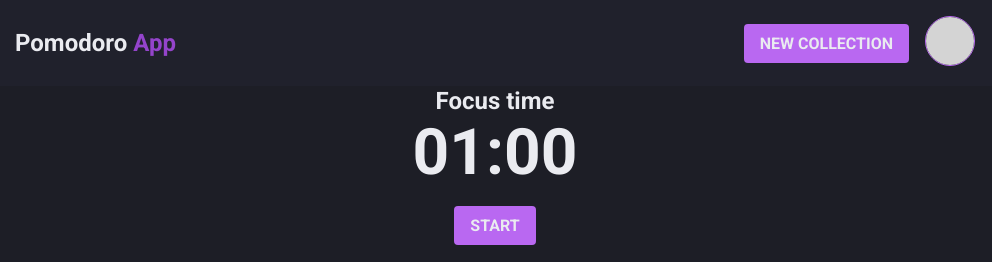
Test: Timer › Should be able to start timer count down when user press into start button
Click the button "Start".
click(495, 226)  # box [454, 206, 536, 245]
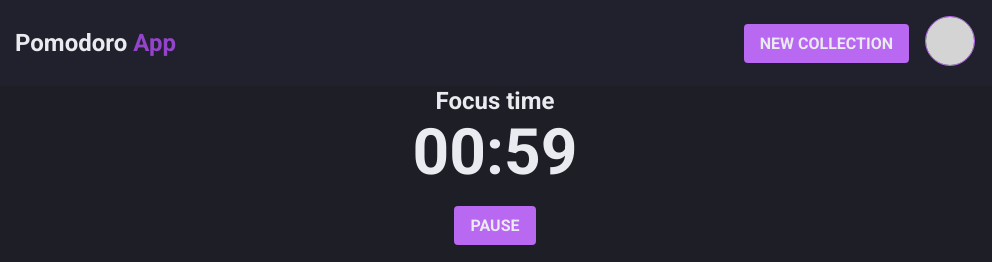
Result: the text "00:59" is shown at [412, 115, 577, 190]
